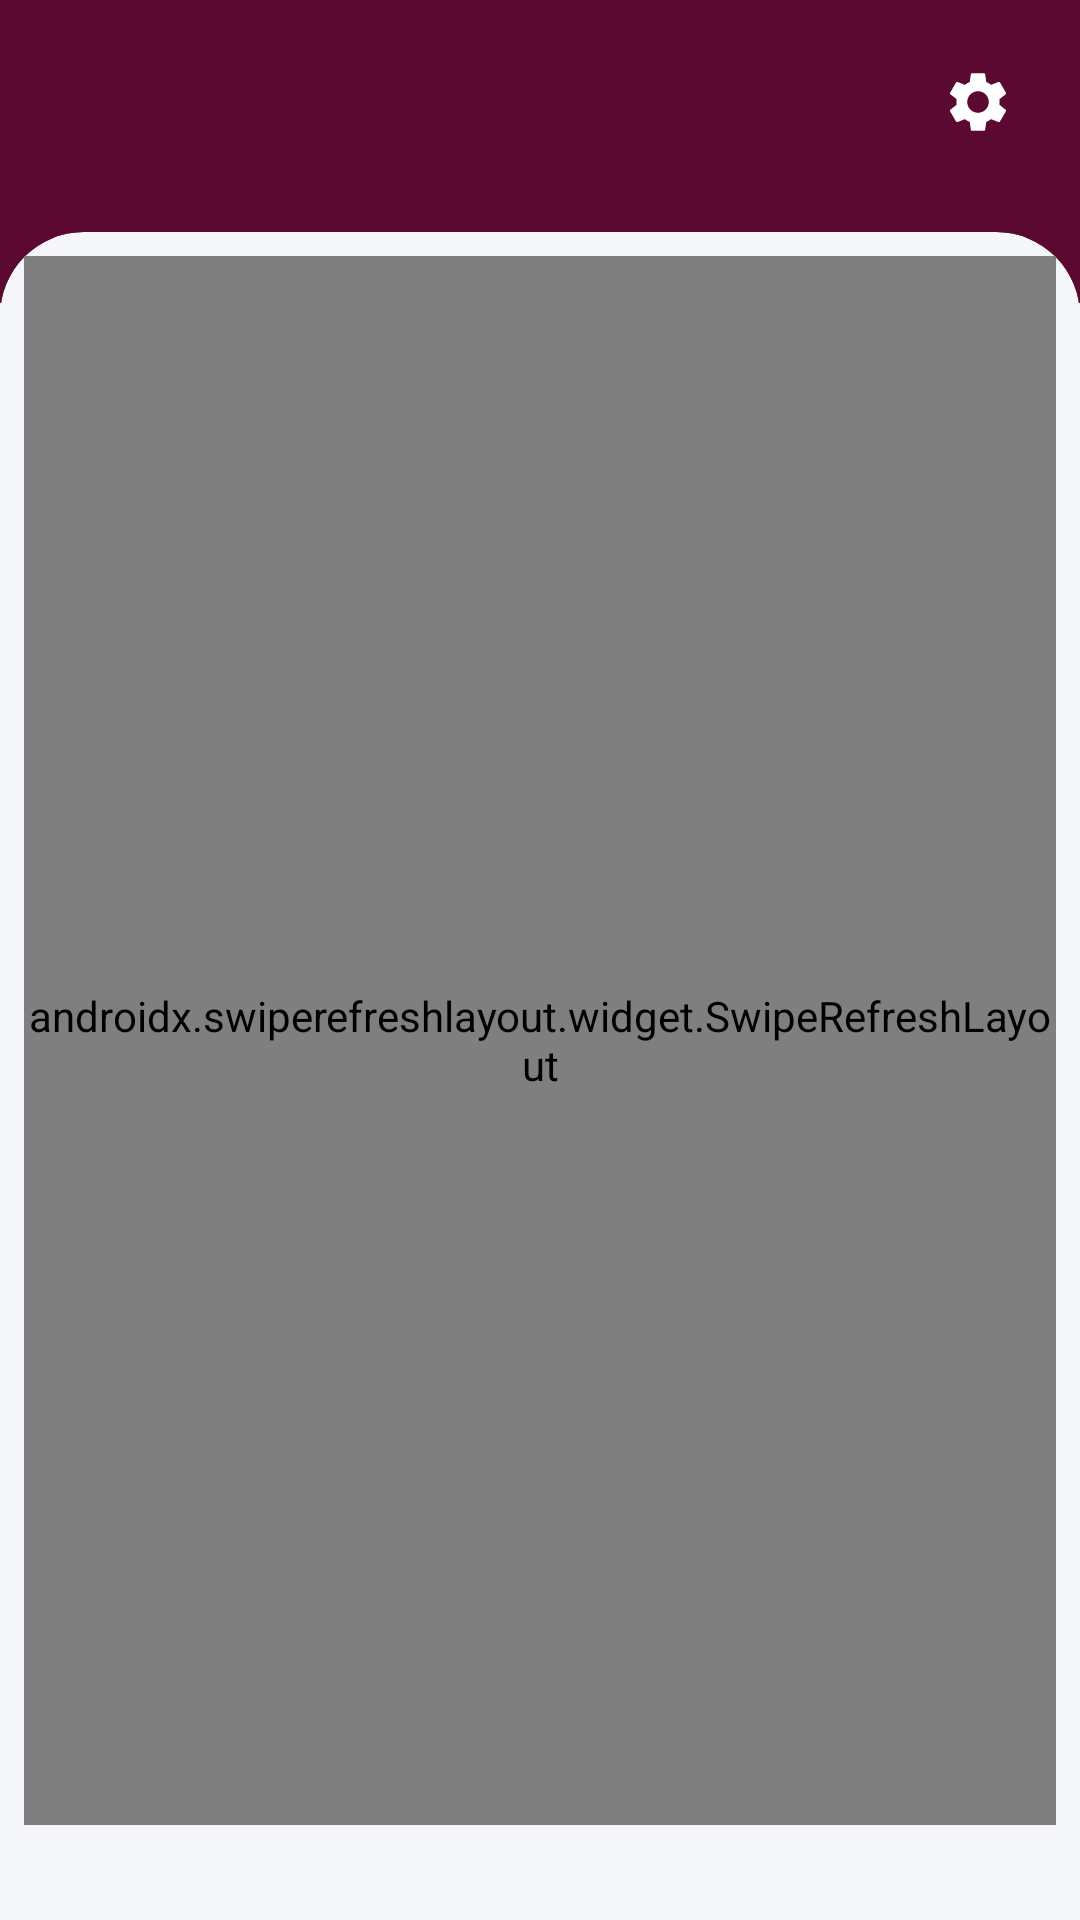

Where icons sit on this 1080px x 1920px app screen, as (x1, y1, x2, y2):
Settings: (950, 73, 1006, 131)
